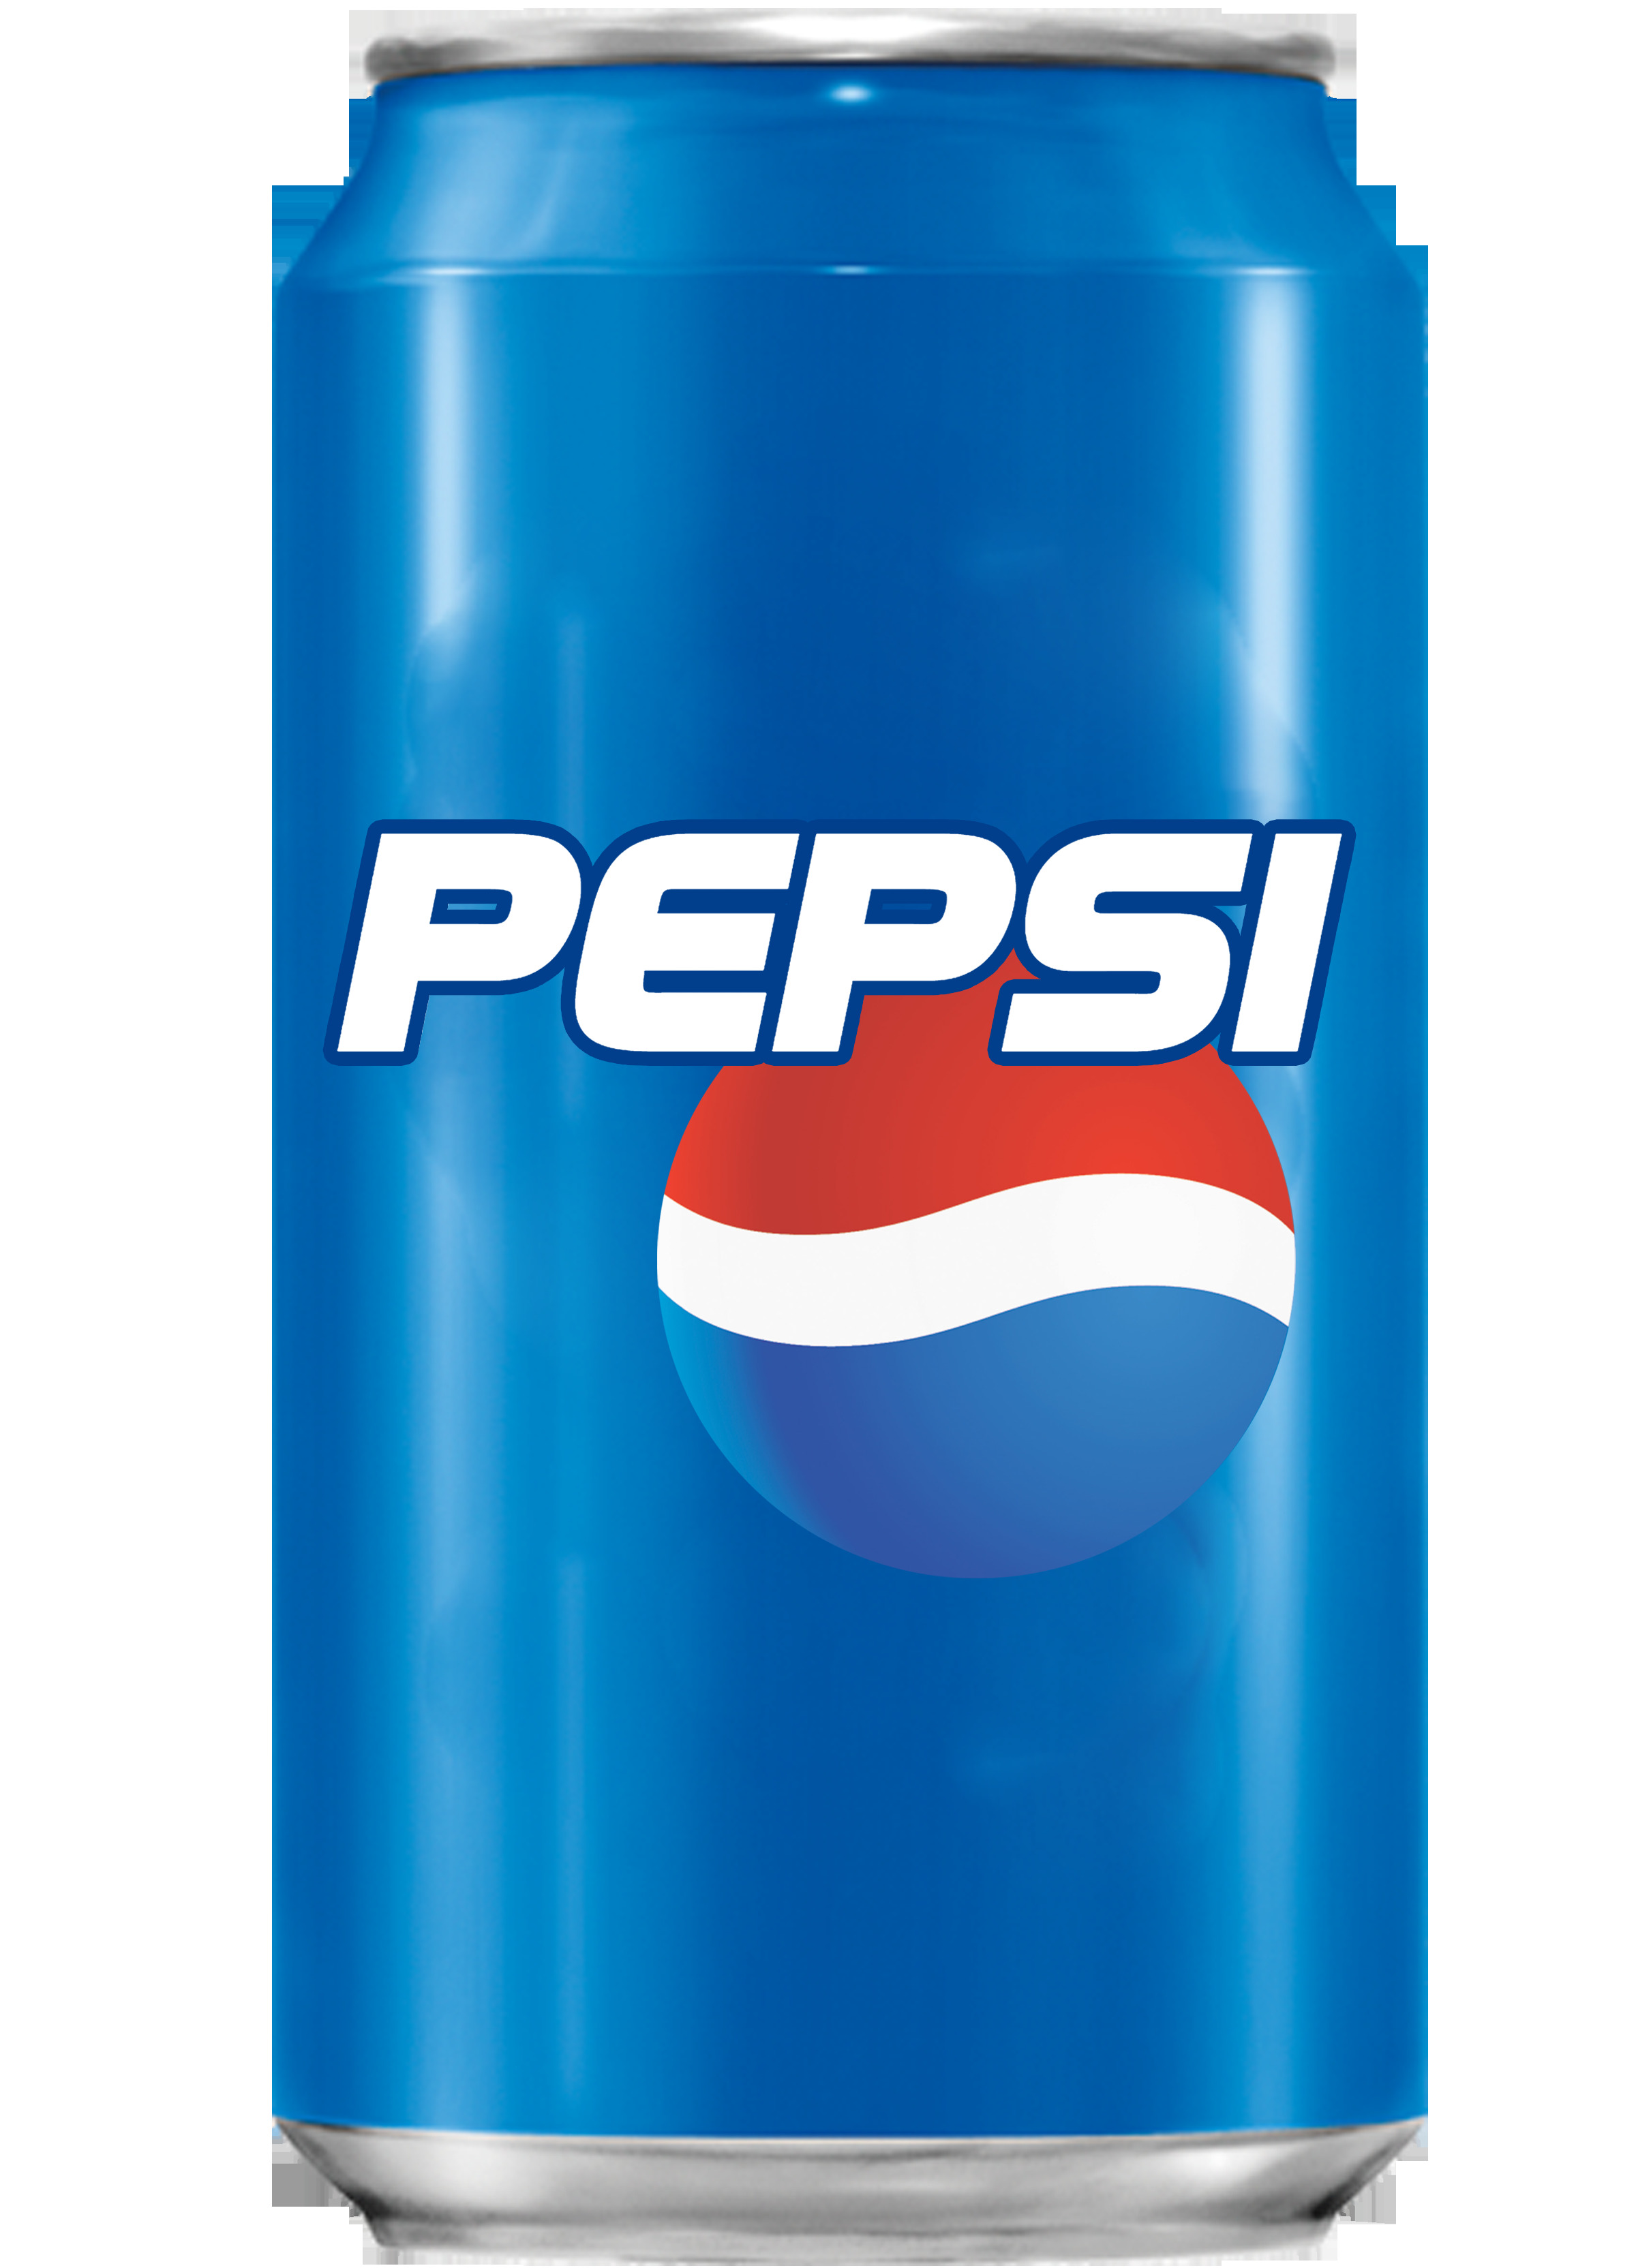pepsi: (278, 30, 1442, 2180)
